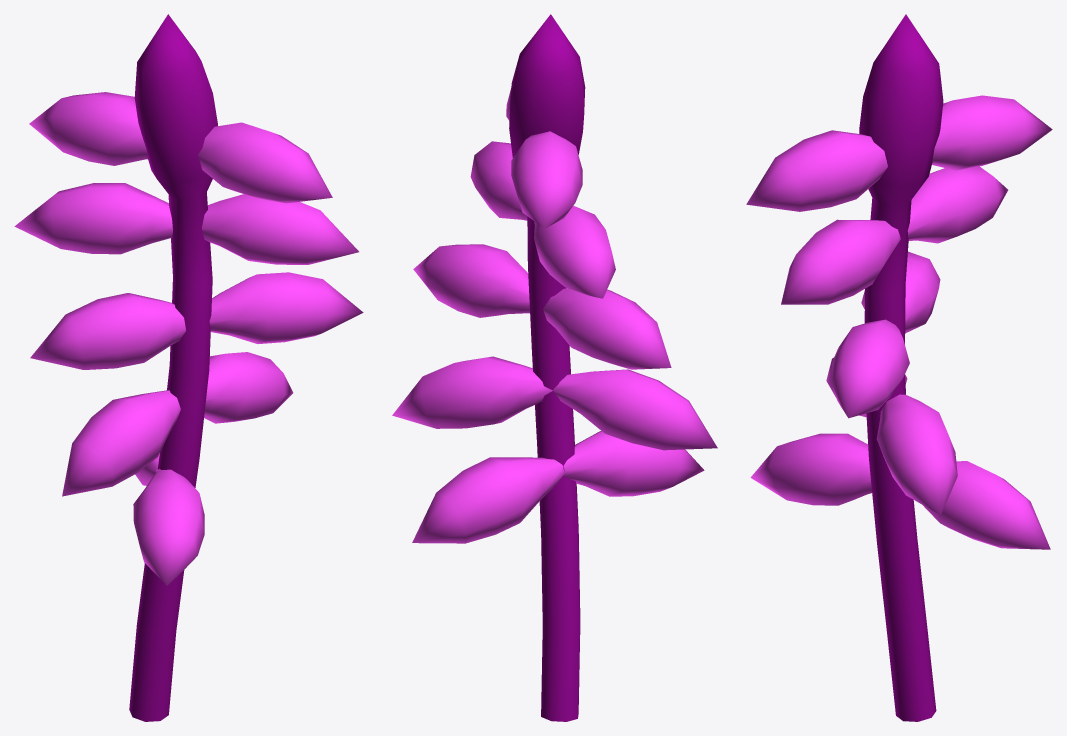
File: Coral_31.fbx
3 renders of one model, left to right at view 1: azimuth 30°, elevation 25°; view 2: azimuth 150°, elevation 25°; view 3: azimuth 270°, elevation 25°, orthographic.
Parts seen in each view (by area): view 1: Coral_31; view 2: Coral_31; view 3: Coral_31.
Boxes of the visible parts, left/top/right/bottom form: Coral_31: left=14, top=14, right=363, bottom=721; Coral_31: left=392, top=14, right=717, bottom=721; Coral_31: left=746, top=14, right=1052, bottom=721.
Bounding box in the file's own units: 48.98 × 108 × 42.3.
